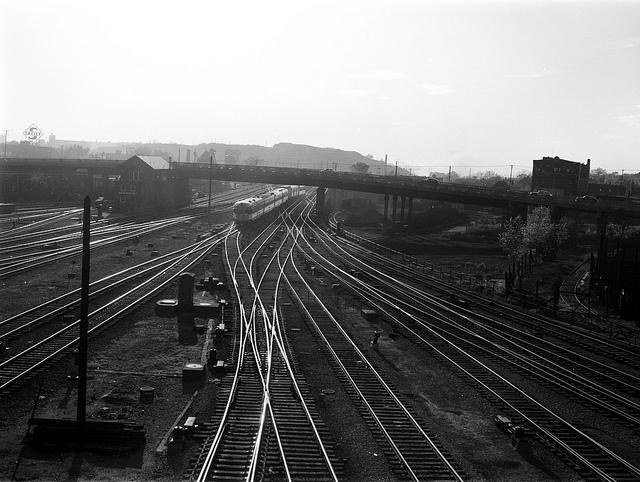car: (574, 195, 600, 204), (528, 190, 554, 198), (421, 179, 440, 184), (320, 168, 338, 173)
